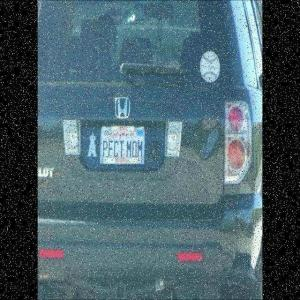Plate: (97, 119, 151, 176)
